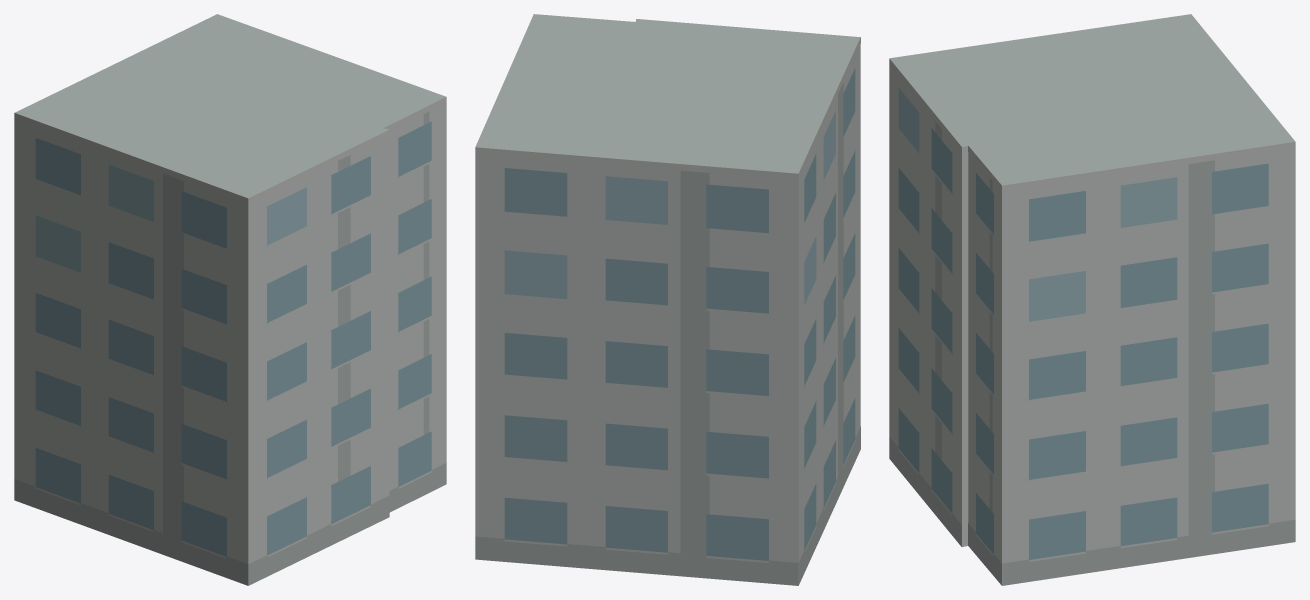
Rendered from survey-upis-32945386.glb.
3 renders of one model, left to right at view 1: azimuth 30°, elevation 25°; view 2: azimuth 150°, elevation 25°; view 3: azimuth 270°, elevation 25°, orthographic. The views are drawn at different scales.
Parts seen in each view (by area): view 1: survey-upis-32945386.tmp; view 2: survey-upis-32945386.tmp; view 3: survey-upis-32945386.tmp.
Part boxes in pixels (<box>): survey-upis-32945386.tmp: <box>14,14,446,585</box>; survey-upis-32945386.tmp: <box>475,14,860,585</box>; survey-upis-32945386.tmp: <box>889,14,1295,585</box>.
Bounding box in the file's own units: 14.03 × 15.25 × 14.04.
